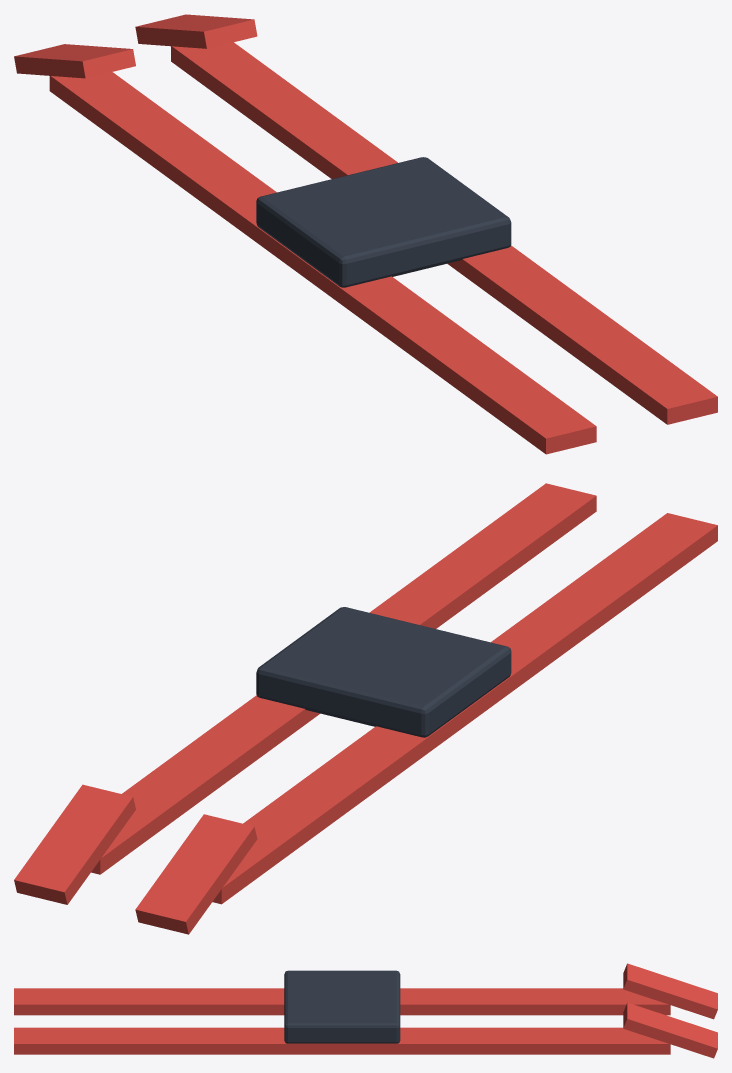
File: Ski_Skis.fbx
3 renders of one model, top to bottom at view 1: azimuth 30°, elevation 25°; view 2: azimuth 150°, elevation 25°; view 3: azimuth 270°, elevation 25°, orthographic. The views are drawn at different scales.
Parts seen in each view (by area): view 1: Skis; view 2: Skis; view 3: Skis.
Boxes of the visible parts, x1=… form: Skis: x1=14, y1=14, x2=717, y2=454; Skis: x1=14, y1=483, x2=717, y2=934; Skis: x1=14, y1=963, x2=717, y2=1058.
Bounding box in the file's own units: 0.34 × 0.1137 × 1.82.
